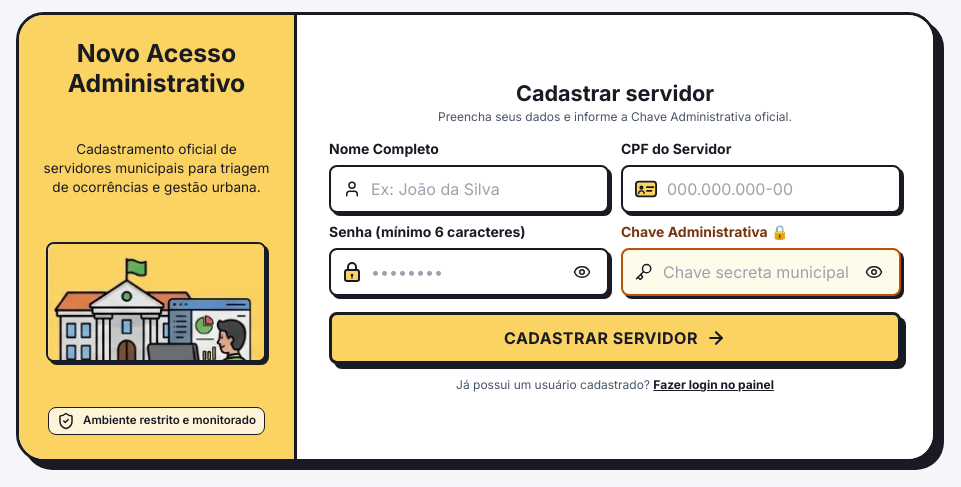
Test: Página CadastroPrefeitura (/cadastro/prefeitura) › deve exibir erro caso o CPF já esteja cadastrado na API (409)
The width and height of the screenshot is (961, 487).
Type "Mariana Costa" into the field labelled "Nome Completo". click: x=488, y=190
box: [371,168,605,212]
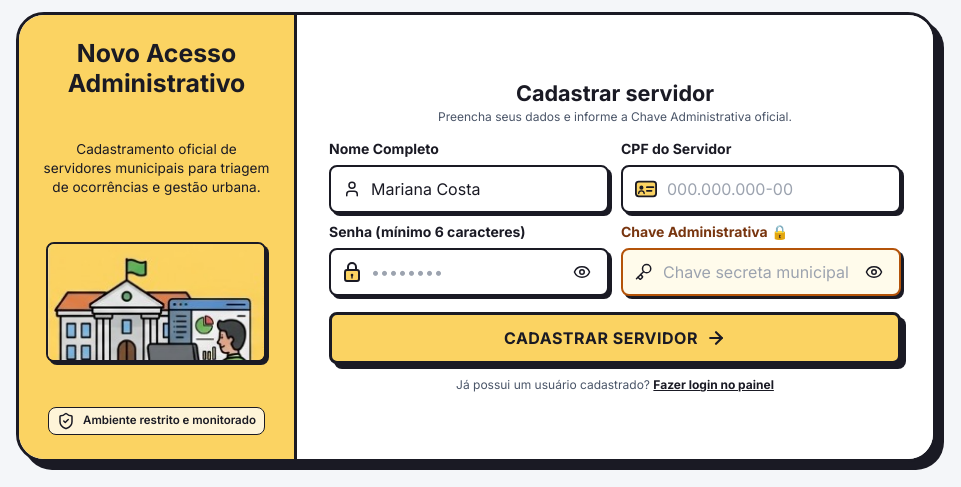
Type "98765432100" into the field labelled "CPF do Servidor". click: x=784, y=190
box: [667,168,901,212]
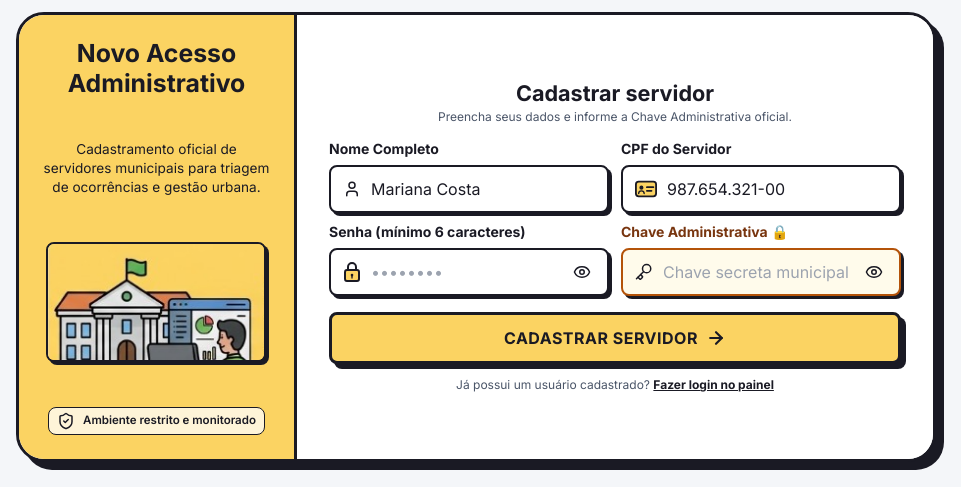
Type "minhaSenha123" into the password field labelled "Senha (mínimo 6 caracteres)". click: x=470, y=272
box: [371,250,569,294]
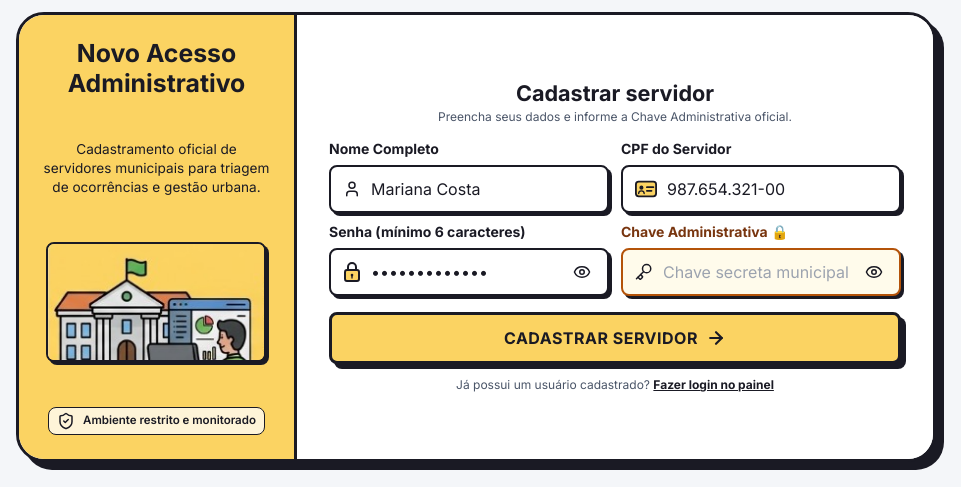
Type "ZELUS-ADM-2026" into the password field labelled "Chave Administrativa 🔒". click: x=762, y=272
box: [663,250,861,294]
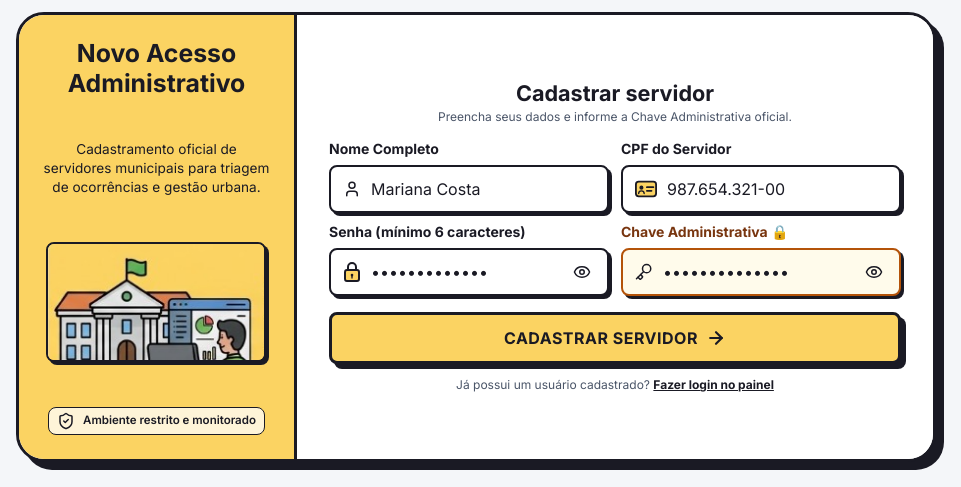
Click the button with aria-label "Concluir cadastro de servidor público". click: x=615, y=338
box: [329,312,901,364]
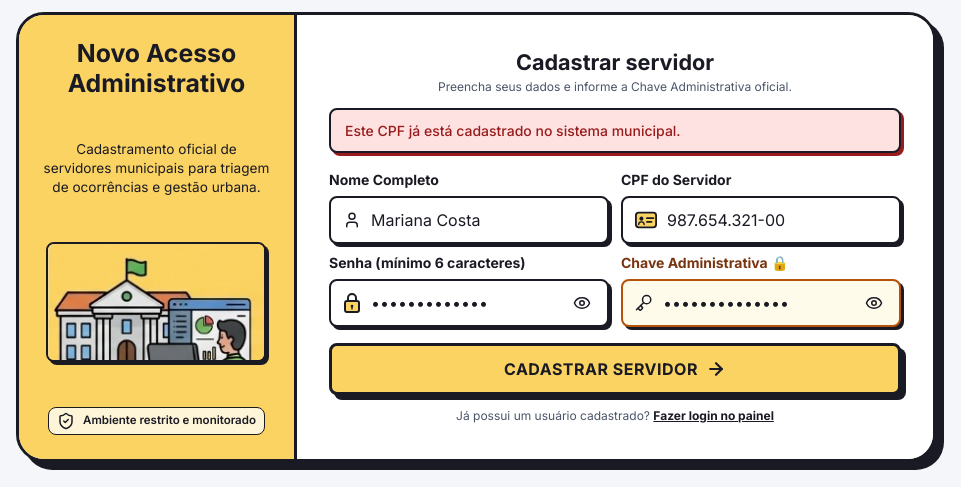
Expected: the text "Este CPF já está cadastrado no sistema municipal." is shown, [329,108,901,153]
